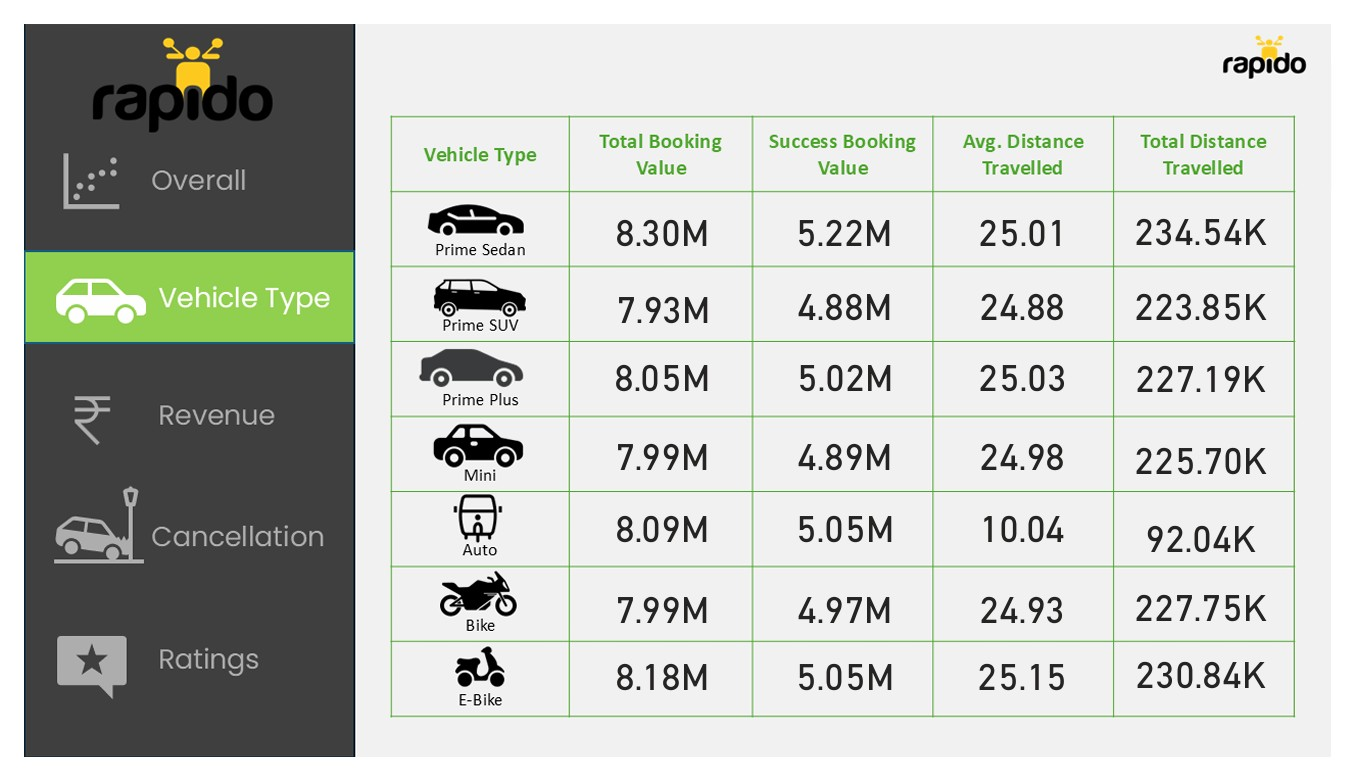

The page's visual inventory and layout, read from the dashboard file:
{"tool":"powerbi","page":{"name":"vehicle type","canvas":[1280,720],"ordinal":1},"visuals":[{"type":"actionButton","box":[0,343.8,319.7,88.1],"z":0},{"type":"actionButton","box":[0,457.2,319.7,88.1],"z":1000},{"type":"actionButton","box":[0,580.3,319.7,88.1],"z":2000},{"type":"actionButton","box":[0,112.2,319.7,88.1],"z":3000},{"type":"card","fields":{"Values":["Sum(July.Booking_Value)"]},"box":[538.8,167.5,171.2,65],"z":4000},{"type":"card","fields":{"Values":["Sum(July.Booking_Value)"]},"box":[538.8,387.5,171.2,65],"z":5000},{"type":"card","fields":{"Values":["Sum(July.Booking_Value)"]},"box":[538.8,457.5,171.2,65],"z":6000},{"type":"card","fields":{"Values":["Sum(July.Booking_Value)"]},"box":[538.8,537.5,171.2,65],"z":7000},{"type":"card","fields":{"Values":["Sum(July.Booking_Value)"]},"box":[538.8,602.5,171.2,65],"z":8000},{"type":"card","fields":{"Values":["Sum(July.Booking_Value)"]},"box":[540,241.2,171.2,70],"z":9000},{"type":"card","fields":{"Values":["Sum(July.Booking_Value)"]},"box":[538.8,311.2,171.2,65],"z":10000},{"type":"card","fields":{"Values":["Sum(July.Booking_Value)"]},"box":[720,167.5,163.8,65],"z":11000},{"type":"card","fields":{"Values":["Sum(July.Booking_Value)"]},"box":[721.2,311.2,163.8,65],"z":12000},{"type":"card","fields":{"Values":["Sum(July.Booking_Value)"]},"box":[721.2,387.5,163.8,65],"z":13000},{"type":"card","fields":{"Values":["Sum(July.Booking_Value)"]},"box":[721.2,457.5,163.8,65],"z":14000},{"type":"card","fields":{"Values":["Sum(July.Booking_Value)"]},"box":[721.2,537.5,163.8,65],"z":15000},{"type":"card","fields":{"Values":["Sum(July.Booking_Value)"]},"box":[721.2,602.5,163.8,65],"z":16000},{"type":"card","fields":{"Values":["Sum(July.Booking_Value)"]},"box":[721.2,241.2,163.8,65],"z":17000},{"type":"card","fields":{"Values":["Avg(July.Ride_Distance)"]},"box":[895,167.5,163.8,65],"z":18000},{"type":"card","fields":{"Values":["Avg(July.Ride_Distance)"]},"box":[895,241.2,163.8,65],"z":19000},{"type":"card","fields":{"Values":["Avg(July.Ride_Distance)"]},"box":[895,311.2,163.8,65],"z":20000},{"type":"card","fields":{"Values":["Avg(July.Ride_Distance)"]},"box":[895,387.5,163.8,65],"z":21000},{"type":"card","fields":{"Values":["Avg(July.Ride_Distance)"]},"box":[895,457.5,163.8,65],"z":22000},{"type":"card","fields":{"Values":["Avg(July.Ride_Distance)"]},"box":[895,537.5,163.8,65],"z":23000},{"type":"card","fields":{"Values":["Avg(July.Ride_Distance)"]},"box":[895,602.5,163.8,65],"z":24000},{"type":"card","fields":{"Values":["Sum(July.Ride_Distance)"]},"box":[1070.3,167.4,163.3,65.9],"z":25000},{"type":"card","fields":{"Values":["Sum(July.Ride_Distance)"]},"box":[1070.3,240.1,163.3,65.9],"z":26000},{"type":"card","fields":{"Values":["Sum(July.Ride_Distance)"]},"box":[1070.3,311.5,163.3,65.9],"z":27000},{"type":"card","fields":{"Values":["Sum(July.Ride_Distance)"]},"box":[1070.3,391.1,163.3,65.9],"z":28000},{"type":"card","fields":{"Values":["Sum(July.Ride_Distance)"]},"box":[1070.3,467.9,163.3,65.9],"z":29000},{"type":"card","fields":{"Values":["Sum(July.Ride_Distance)"]},"box":[1070.3,535.2,163.3,65.9],"z":30000},{"type":"card","fields":{"Values":["Sum(July.Ride_Distance)"]},"box":[1070.3,601,163.3,65.9],"z":31000}]}

Visuals, with their boxes in screenshot pixels (x1, y1, x2, y2), scaled from the page's 1280x720 canvas onto the 1353x782 screenshot:
actionButton: pyautogui.locateOnScreen(0, 373, 338, 469)
actionButton: pyautogui.locateOnScreen(0, 497, 338, 592)
actionButton: pyautogui.locateOnScreen(0, 630, 338, 726)
actionButton: pyautogui.locateOnScreen(0, 122, 338, 218)
card - Sum(July.Booking_Value): pyautogui.locateOnScreen(570, 182, 750, 253)
card - Sum(July.Booking_Value): pyautogui.locateOnScreen(570, 421, 750, 491)
card - Sum(July.Booking_Value): pyautogui.locateOnScreen(570, 497, 750, 567)
card - Sum(July.Booking_Value): pyautogui.locateOnScreen(570, 584, 750, 654)
card - Sum(July.Booking_Value): pyautogui.locateOnScreen(570, 654, 750, 725)
card - Sum(July.Booking_Value): pyautogui.locateOnScreen(571, 262, 752, 338)
card - Sum(July.Booking_Value): pyautogui.locateOnScreen(570, 338, 750, 409)
card - Sum(July.Booking_Value): pyautogui.locateOnScreen(761, 182, 934, 253)
card - Sum(July.Booking_Value): pyautogui.locateOnScreen(762, 338, 935, 409)
card - Sum(July.Booking_Value): pyautogui.locateOnScreen(762, 421, 935, 491)
card - Sum(July.Booking_Value): pyautogui.locateOnScreen(762, 497, 935, 567)
card - Sum(July.Booking_Value): pyautogui.locateOnScreen(762, 584, 935, 654)
card - Sum(July.Booking_Value): pyautogui.locateOnScreen(762, 654, 935, 725)
card - Sum(July.Booking_Value): pyautogui.locateOnScreen(762, 262, 935, 333)
card - Avg(July.Ride_Distance): pyautogui.locateOnScreen(946, 182, 1119, 253)
card - Avg(July.Ride_Distance): pyautogui.locateOnScreen(946, 262, 1119, 333)
card - Avg(July.Ride_Distance): pyautogui.locateOnScreen(946, 338, 1119, 409)
card - Avg(July.Ride_Distance): pyautogui.locateOnScreen(946, 421, 1119, 491)
card - Avg(July.Ride_Distance): pyautogui.locateOnScreen(946, 497, 1119, 567)
card - Avg(July.Ride_Distance): pyautogui.locateOnScreen(946, 584, 1119, 654)
card - Avg(July.Ride_Distance): pyautogui.locateOnScreen(946, 654, 1119, 725)
card - Sum(July.Ride_Distance): pyautogui.locateOnScreen(1131, 182, 1304, 253)
card - Sum(July.Ride_Distance): pyautogui.locateOnScreen(1131, 261, 1304, 332)
card - Sum(July.Ride_Distance): pyautogui.locateOnScreen(1131, 338, 1304, 410)
card - Sum(July.Ride_Distance): pyautogui.locateOnScreen(1131, 425, 1304, 496)
card - Sum(July.Ride_Distance): pyautogui.locateOnScreen(1131, 508, 1304, 580)
card - Sum(July.Ride_Distance): pyautogui.locateOnScreen(1131, 581, 1304, 653)
card - Sum(July.Ride_Distance): pyautogui.locateOnScreen(1131, 653, 1304, 724)
